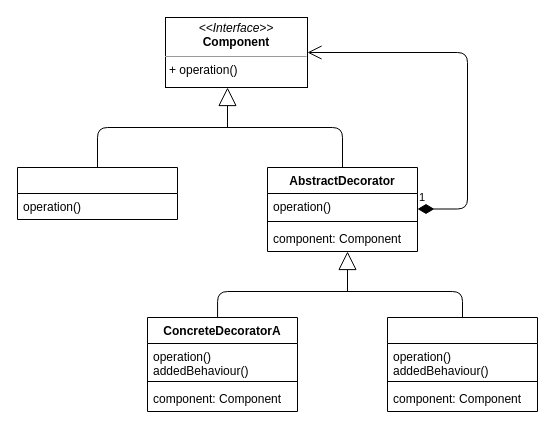
Some shapes in this 555 by 432 pixel diagram are drawn without their labels. Each missing label, with the box of its shape:
ConcreteComponent: (16, 166, 178, 220)
ConcreteDecoratorB: (386, 316, 538, 412)
